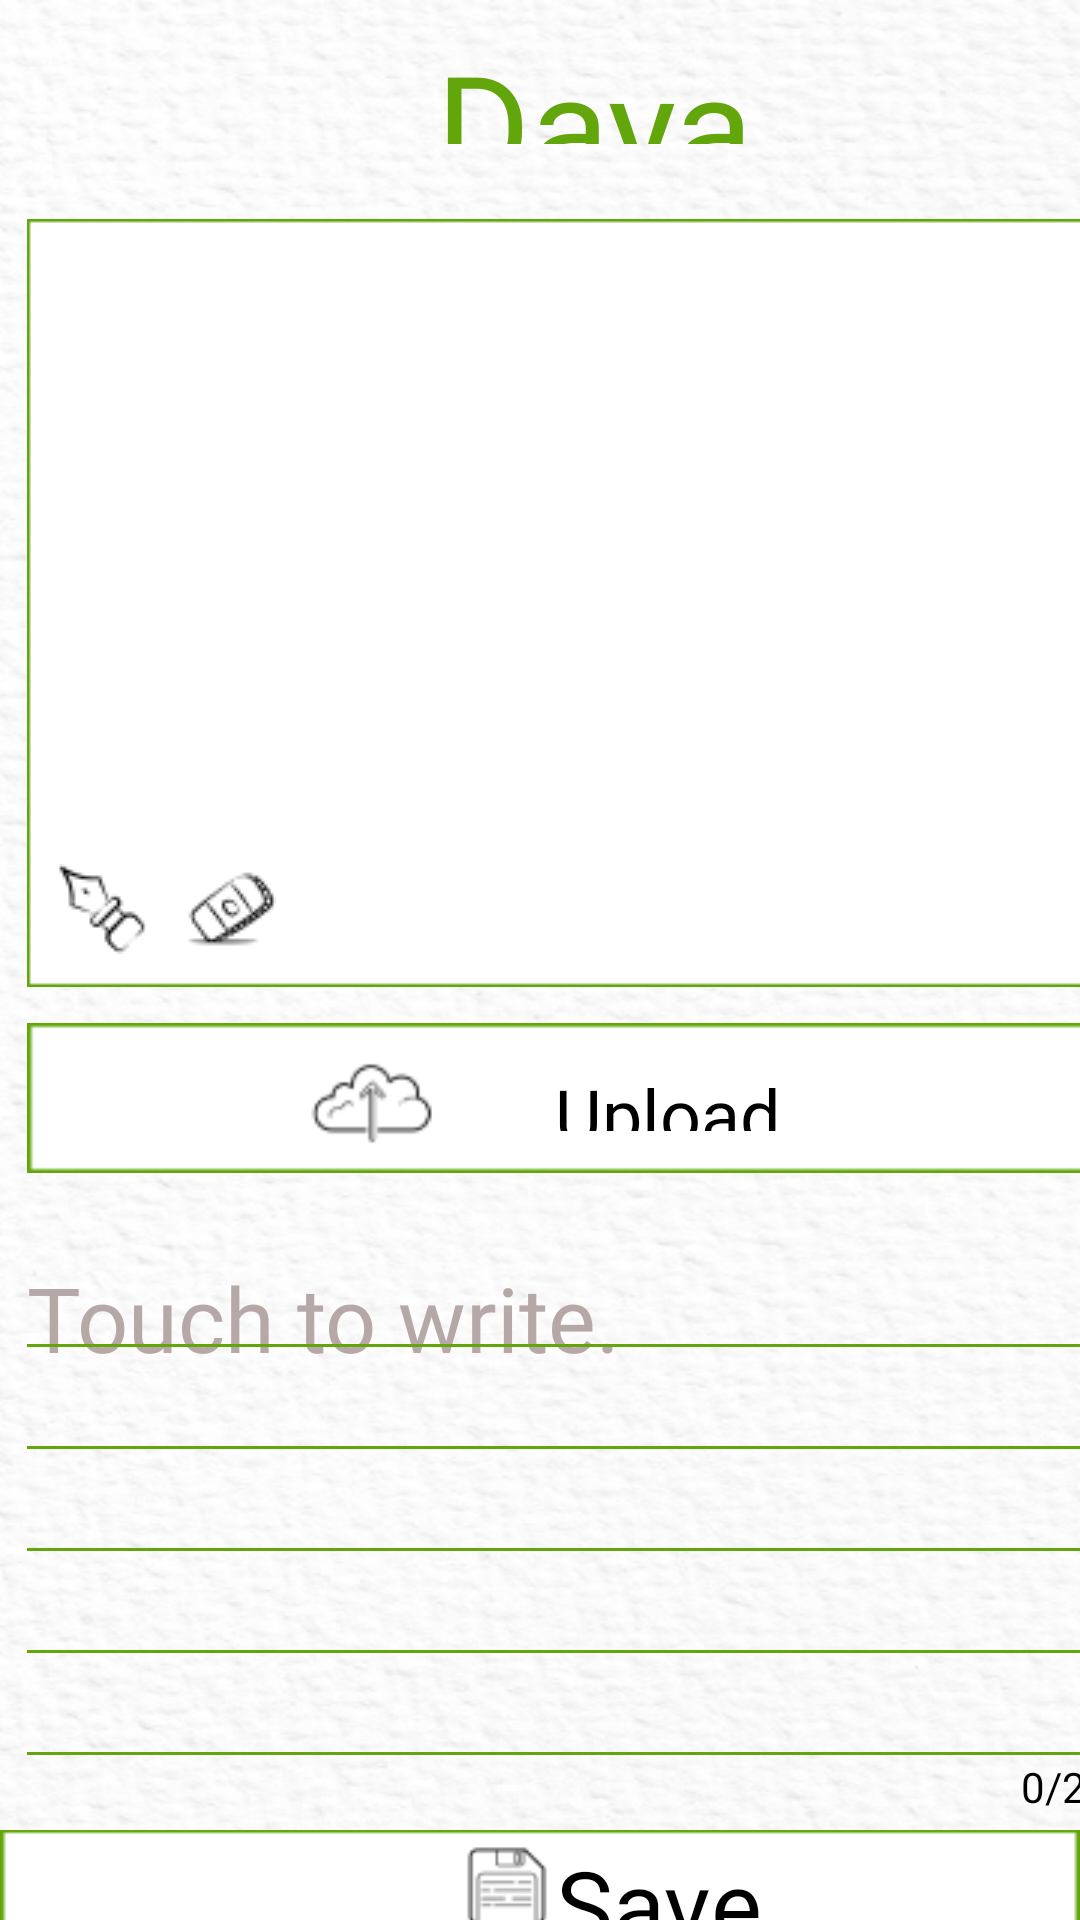

Named icons in this screenshot (1080 x 1920) and their centers, (x,y):
cloud: (372,1103)
eraser: (232,909)
pen: (102,909)
